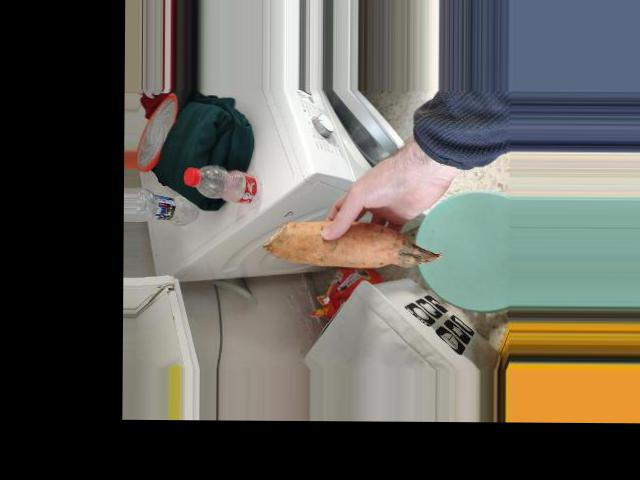sweet_potato: (284, 208, 436, 268)
